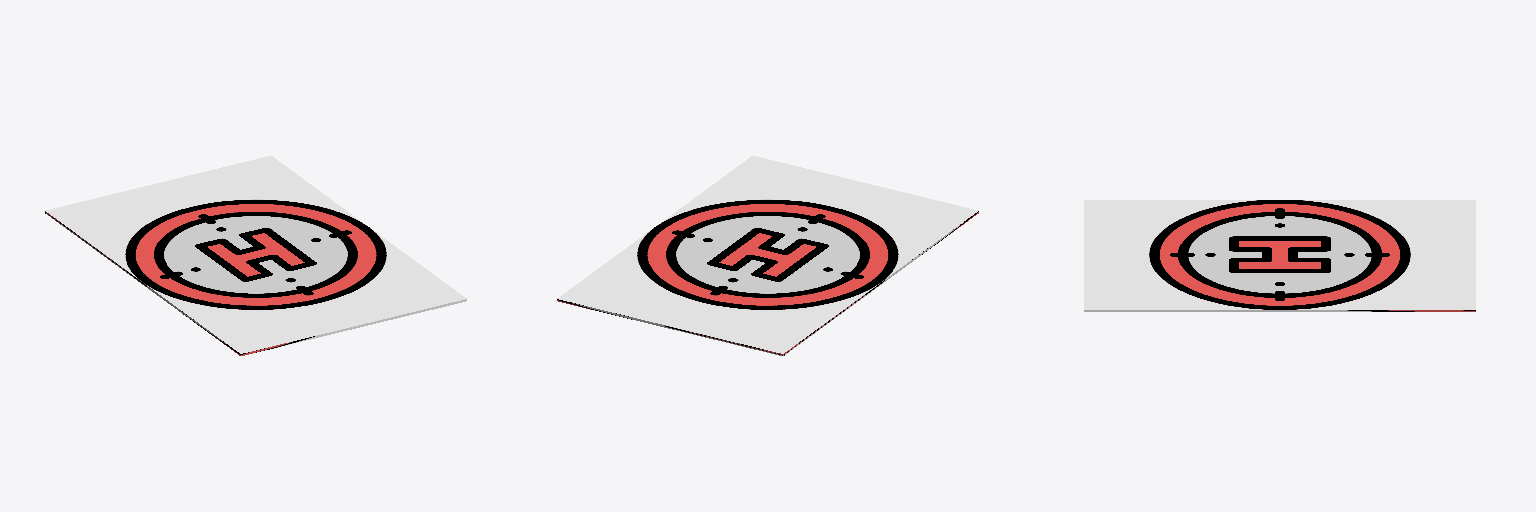
3 renders of one model, left to right at view 1: azimuth 30°, elevation 25°; view 2: azimuth 150°, elevation 25°; view 3: azimuth 270°, elevation 25°, orthographic.
Parts seen in each view (by area): view 1: Cube; view 2: Cube; view 3: Cube.
Boxes of the visible parts, <box> form: Cube: <box>45,156,466,355</box>; Cube: <box>557,156,978,355</box>; Cube: <box>1084,200,1475,311</box>.
Size of the model in its own units: 1 by 0.01 by 1.5.
1 materials, 1 textured.